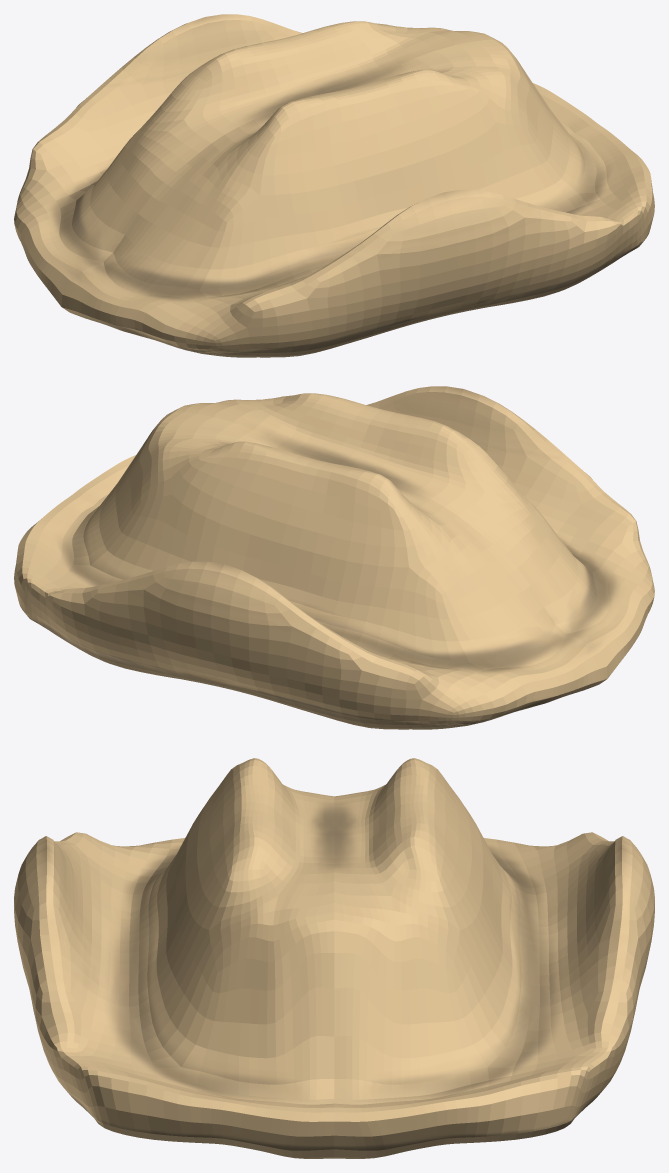
File: bill's_hat.fbx
3 renders of one model, top to bottom at view 1: azimuth 30°, elevation 25°; view 2: azimuth 150°, elevation 25°; view 3: azimuth 270°, elevation 25°, orthographic. The views are drawn at different scales.
Parts seen in each view (by area): view 1: Cube.010; view 2: Cube.010; view 3: Cube.010.
Boxes of the visible parts, <box> form: Cube.010: <box>14,14,654,357</box>; Cube.010: <box>14,386,654,729</box>; Cube.010: <box>14,758,654,1158</box>.
Bounding box in the file's own units: 253 × 89.34 × 216.
Materials: 1 (1 with a texture image).
